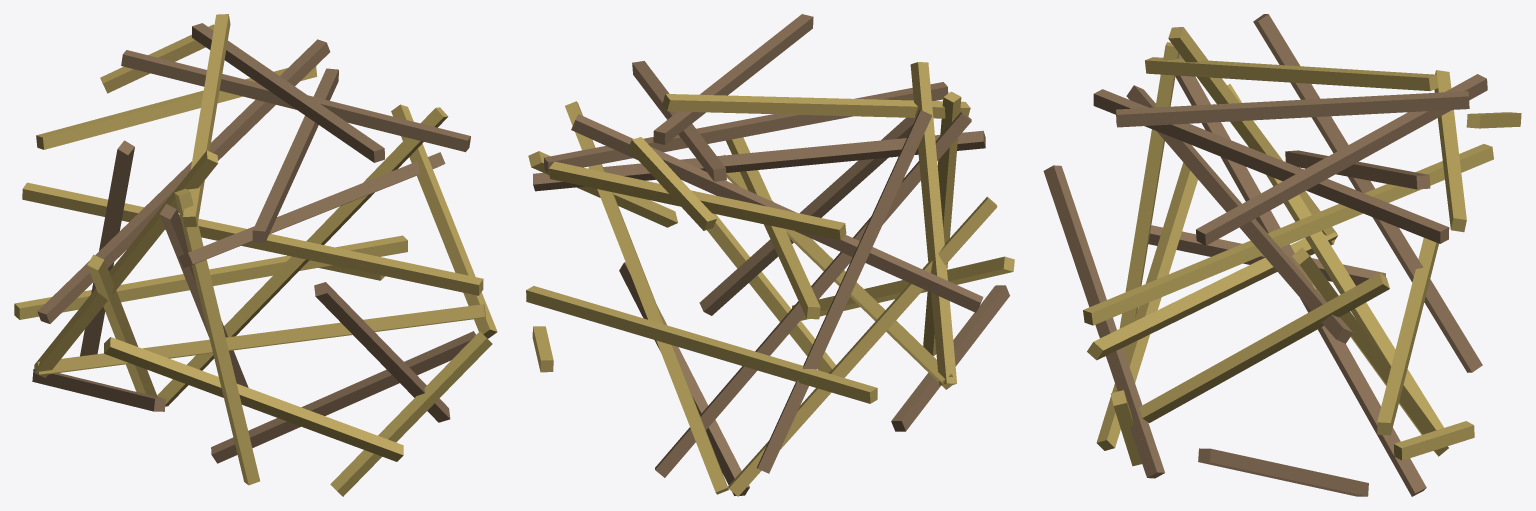
File: buisson_desert_3.glb
3 views of the same model, side by side, from view 1: azimuth 30°, elevation 25°; view 2: azimuth 150°, elevation 25°; view 3: azimuth 270°, elevation 25° (orthographic). The views are drawn at different scales.
Visible parts, largest first — view 1: brindilles_herbe_seche.002, brindilles_bois_sec.002; view 2: brindilles_herbe_seche.002, brindilles_bois_sec.002; view 3: brindilles_herbe_seche.002, brindilles_bois_sec.002.
Part boxes in pixels (bbox=[...]): brindilles_herbe_seche.002: bbox=[14, 14, 497, 496]; brindilles_bois_sec.002: bbox=[32, 23, 475, 463]; brindilles_herbe_seche.002: bbox=[526, 62, 1014, 496]; brindilles_bois_sec.002: bbox=[533, 14, 1009, 495]; brindilles_herbe_seche.002: bbox=[1083, 27, 1521, 466]; brindilles_bois_sec.002: bbox=[1043, 14, 1487, 496].
Bounding box in the file's own units: 0.4805 × 0.4461 × 0.4371.
